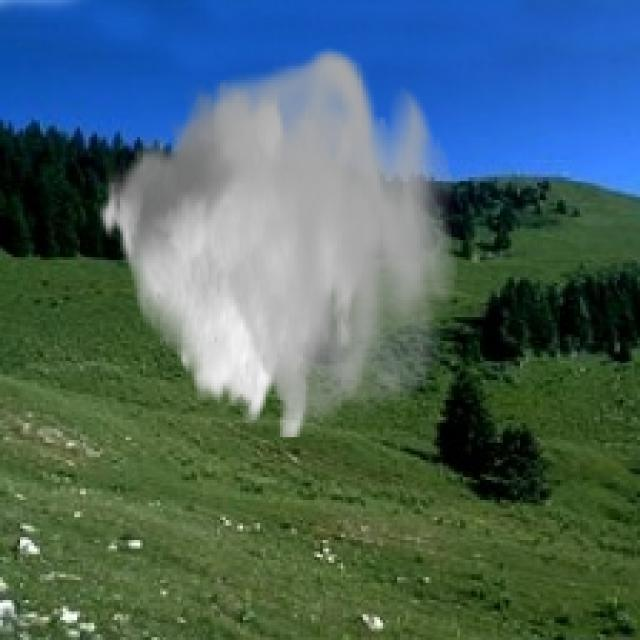Smoke: (97, 42, 457, 438)
